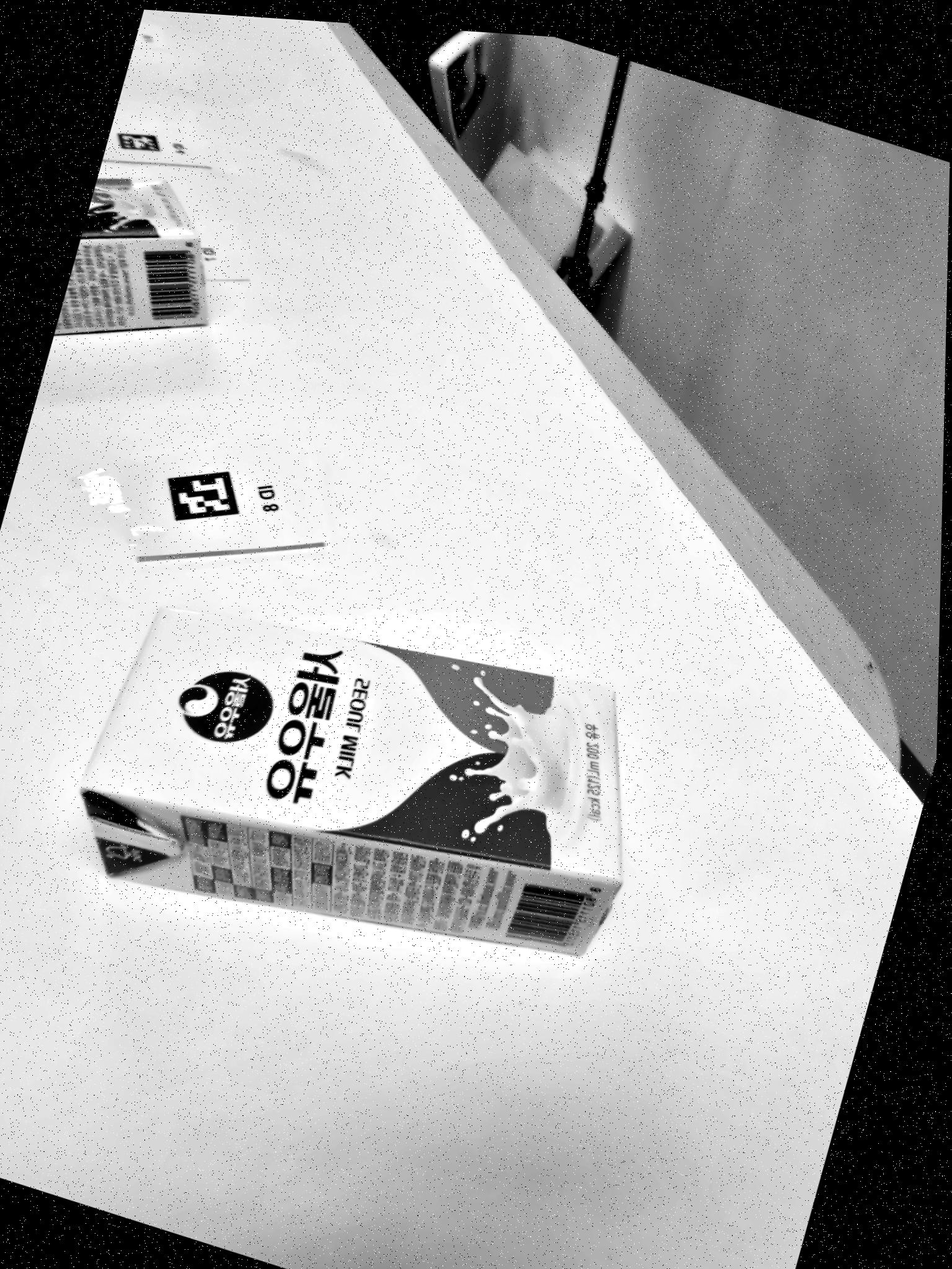milk_green: (79, 604, 622, 959)
